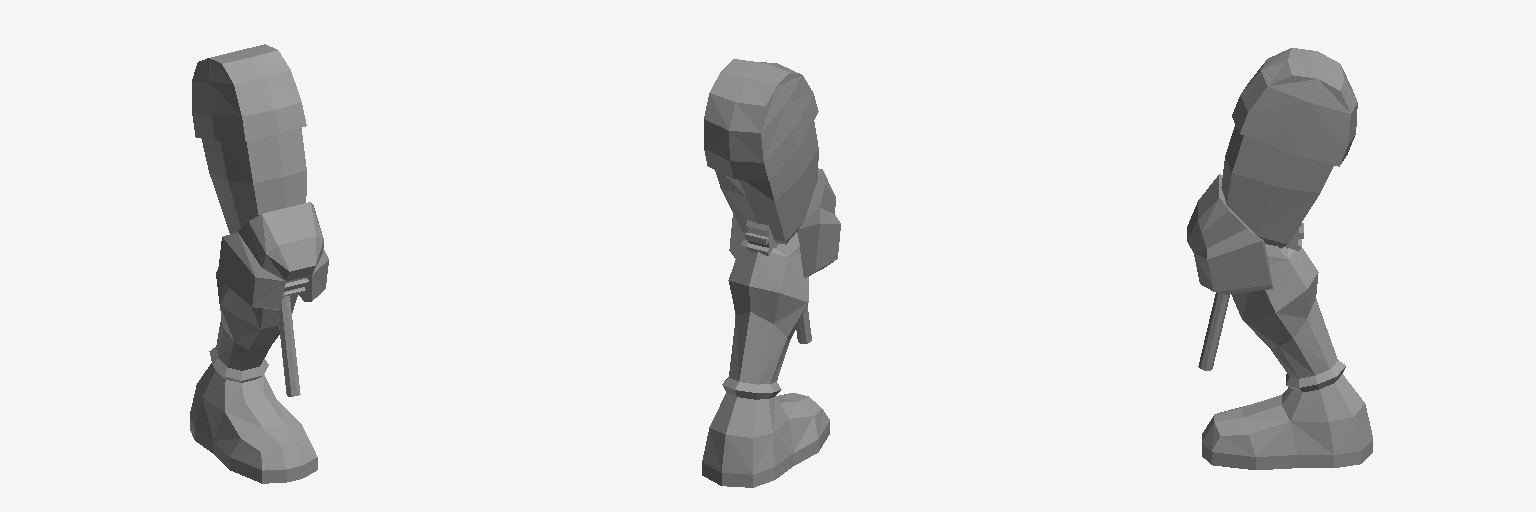
File: right_leg-16_arbormon.blend.obj
3 renders of one model, left to right at view 1: azimuth 30°, elevation 25°; view 2: azimuth 150°, elevation 25°; view 3: azimuth 270°, elevation 25°, orthographic.
Parts seen in each view (by area): view 1: right_leg-16_arbormon.blend_nifid_284-matrix_Editable_Poly-lib.0; view 2: right_leg-16_arbormon.blend_nifid_284-matrix_Editable_Poly-lib.0; view 3: right_leg-16_arbormon.blend_nifid_284-matrix_Editable_Poly-lib.0.
Part boxes in pixels (left/top/right/bottom): right_leg-16_arbormon.blend_nifid_284-matrix_Editable_Poly-lib.0: left=190, top=44, right=328, bottom=483; right_leg-16_arbormon.blend_nifid_284-matrix_Editable_Poly-lib.0: left=702, top=59, right=840, bottom=487; right_leg-16_arbormon.blend_nifid_284-matrix_Editable_Poly-lib.0: left=1187, top=48, right=1372, bottom=469.
Bounding box in the file's own units: 0.2535 × 1.11 × 0.4777.